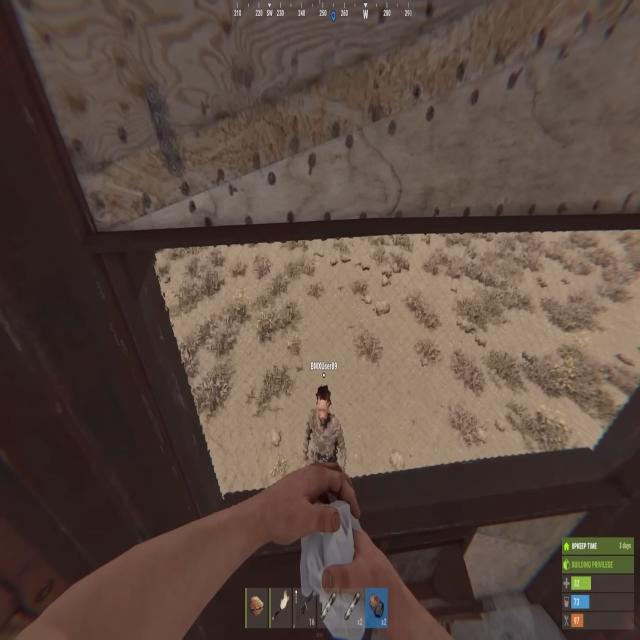Player: (299, 381, 351, 479)
